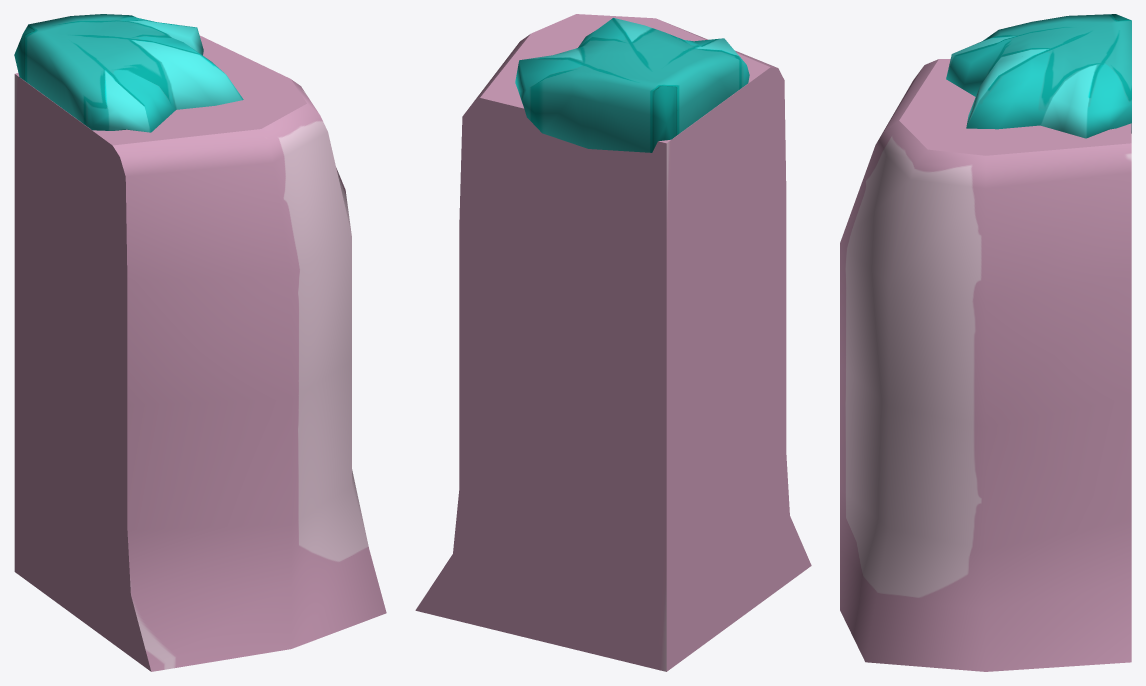
File: S1_InF_WallCorner(1)_001.fbx
The picture shows the model from 3 angles, left to right: view 1: azimuth 30°, elevation 25°; view 2: azimuth 150°, elevation 25°; view 3: azimuth 270°, elevation 25°; orthographic projection. The views are drawn at different scales.
Visible parts, largest first — view 1: group100_pCube116; view 2: group100_pCube116; view 3: group100_pCube116.
Boxes of the visible parts, x1=… form: group100_pCube116: x1=14, y1=14, x2=386, y2=671; group100_pCube116: x1=415, y1=14, x2=811, y2=671; group100_pCube116: x1=840, y1=14, x2=1131, y2=671.
Bounding box in the file's own units: 1.08 × 2.19 × 1.08.
